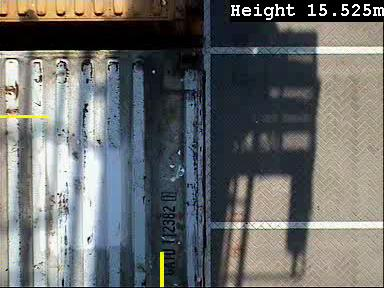groundmarker_2: (101, 19, 158, 55), (100, 170, 157, 205)
